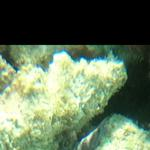dead: (1, 46, 146, 147)
